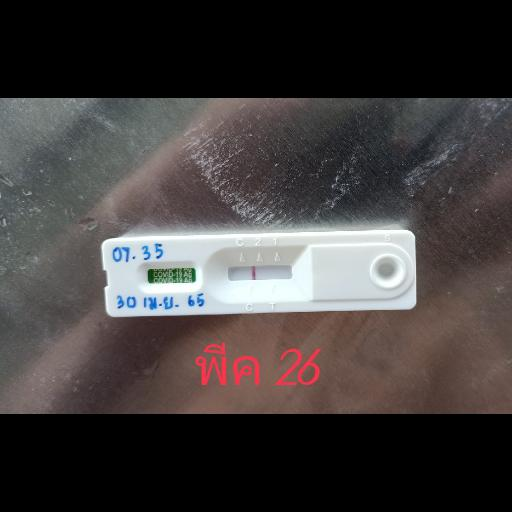Neg: (101, 230, 416, 316)
